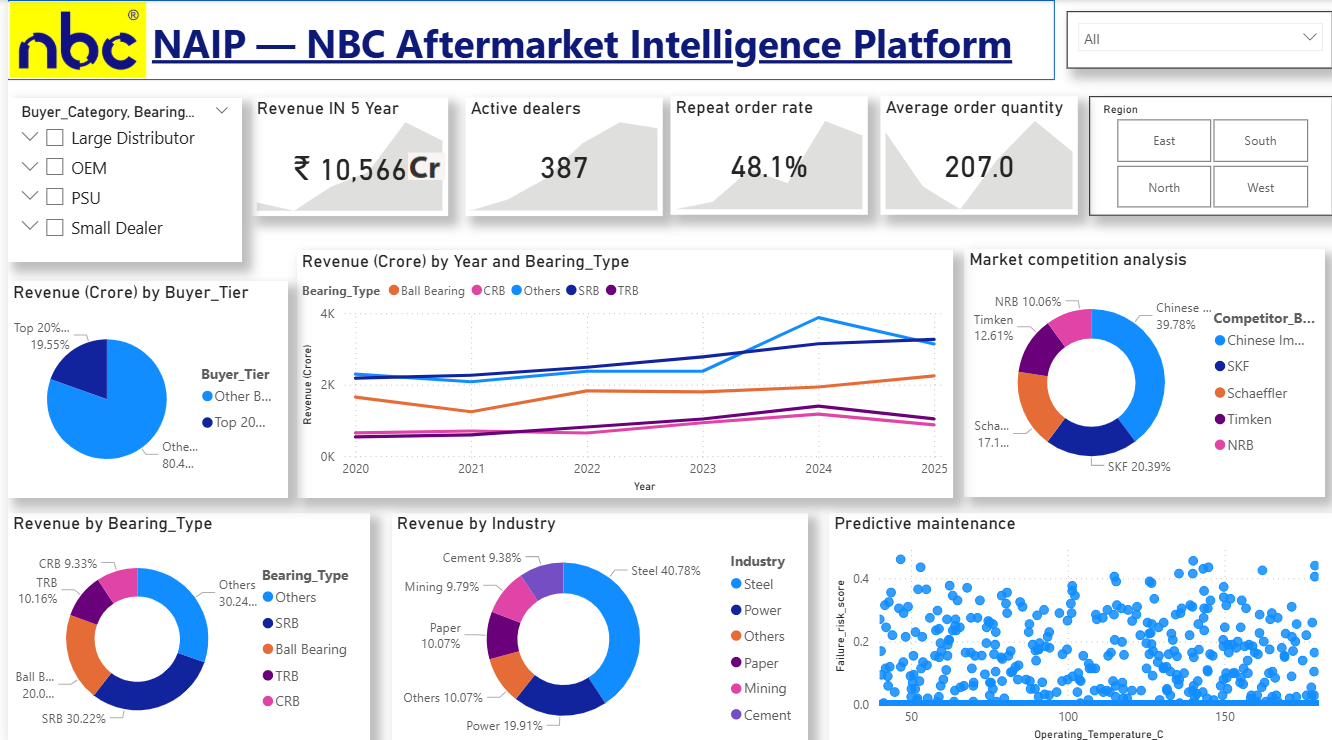

Layout of this report page (visuals, bound fields, positions):
{"tool":"powerbi","page":{"name":"Page 1","canvas":[1280,720],"ordinal":0},"visuals":[{"type":"slicer","fields":{"Values":["NBC_Aftermarket_Bearing_Dataset_2020_2025.Year"]},"box":[1022,11.1,258,55.3],"z":0},{"type":"shape","box":[0,0,1010.4,77.3],"z":1000},{"type":"textbox","box":[134.3,10.7,876.1,66.6],"z":2000},{"type":"image","box":[0,0,134.3,77.3],"z":3000},{"type":"kpi","title":"Revenue IN 5 Year","fields":{"TrendLine":["NBC_Aftermarket_Bearing_Dataset_2020_2025.Year"],"Indicator":["NBC_Aftermarket_Bearing_Dataset_2020_2025.Revenue (Crore)"]},"box":[235.3,94.1,189.4,114.6],"z":4000},{"type":"kpi","title":"Active dealers","fields":{"TrendLine":["NBC_Aftermarket_Bearing_Dataset_2020_2025.Year"],"Indicator":["NBC_Aftermarket_Bearing_Dataset_2020_2025.Active Dealers"]},"box":[441,94.6,190.4,114.2],"z":5000},{"type":"kpi","title":"Repeat order rate","fields":{"TrendLine":["NBC_Aftermarket_Bearing_Dataset_2020_2025.Year"],"Indicator":["NBC_Aftermarket_Bearing_Dataset_2020_2025.Repeat Order Rate %"]},"box":[640,93.4,190.4,114.2],"z":6000},{"type":"kpi","title":"Average order quantity","fields":{"TrendLine":["NBC_Aftermarket_Bearing_Dataset_2020_2025.Year"],"Indicator":["Avg(NBC_Aftermarket_Bearing_Dataset_2020_2025.Order_Quantity)"]},"box":[842.7,93.4,190.4,114.2],"z":7000},{"type":"slicer","fields":{"Values":["NBC_Aftermarket_Bearing_Dataset_2020_2025.Buyer_Category","NBC_Aftermarket_Bearing_Dataset_2020_2025.Bearing_Type"]},"box":[0,94.1,225.6,159.3],"z":8000},{"type":"slicer","fields":{"Values":["NBC_Aftermarket_Bearing_Dataset_2020_2025.Region"]},"box":[1044.1,93.4,235.9,115.5],"z":9000},{"type":"donutChart","title":"Revenue by Bearing_Type","fields":{"Y":["Sum(NBC_Aftermarket_Bearing_Dataset_2020_2025.Revenue)"],"Category":["NBC_Aftermarket_Bearing_Dataset_2020_2025.Bearing_Type"]},"box":[0,494.6,349.9,225.6],"z":10000},{"type":"lineChart","fields":{"Category":["NBC_Aftermarket_Bearing_Dataset_2020_2025.Year"],"Y":["NBC_Aftermarket_Bearing_Dataset_2020_2025.Revenue (Crore)"],"Series":["NBC_Aftermarket_Bearing_Dataset_2020_2025.Bearing_Type"]},"box":[278.7,241.3,633.4,238.9],"z":11000},{"type":"donutChart","title":"Revenue by Industry","fields":{"Category":["NBC_Aftermarket_Bearing_Dataset_2020_2025.Industry"],"Y":["Sum(NBC_Aftermarket_Bearing_Dataset_2020_2025.Revenue)"]},"box":[370.4,494.6,401.7,225.6],"z":12000},{"type":"donutChart","title":"Market competition analysis","fields":{"Category":["NBC_Aftermarket_Bearing_Dataset_2020_2025.Competitor_Brand"],"Y":["Sum(NBC_Aftermarket_Bearing_Dataset_2020_2025.Competitor_Price_Index)"]},"box":[922.5,239.5,347.6,239.5],"z":13000},{"type":"scatterChart","title":"Predictive maintenance","fields":{"X":["NBC_Aftermarket_Bearing_Dataset_2020_2025.Operating_Temperature_C"],"Y":["Sum(NBC_Aftermarket_Bearing_Dataset_2020_2025.Failure_Risk_Score)"]},"box":[792.6,494.6,487.4,225.6],"z":14000},{"type":"pieChart","fields":{"Category":["NBC_Aftermarket_Bearing_Dataset_2020_2025.Buyer_Tier"],"Y":["NBC_Aftermarket_Bearing_Dataset_2020_2025.Revenue (Crore)"]},"box":[0,271.5,270.2,208.8],"z":15000},{"type":"image","box":[383.6,142.4,32.6,39.8],"z":15001}]}

Visuals, with their boxes in screenshot pixels (x1, y1, x2, y2), scaled from the page's 1280x720 canvas onto the 1332x740 screenshot:
slicer - NBC_Aftermarket_Bearing_Dataset_2020_2025.Year: locate(1064, 11, 1331, 68)
shape: locate(0, 0, 1051, 79)
textbox: locate(140, 11, 1051, 79)
image: locate(0, 0, 140, 79)
"Revenue IN 5 Year" kpi: locate(245, 97, 442, 214)
"Active dealers" kpi: locate(459, 97, 657, 215)
"Repeat order rate" kpi: locate(666, 96, 864, 213)
"Average order quantity" kpi: locate(877, 96, 1075, 213)
slicer - NBC_Aftermarket_Bearing_Dataset_2020_2025.Buyer_Category x NBC_Aftermarket_Bearing_Dataset_2020_2025.Bearing_Type: locate(0, 97, 235, 260)
slicer - NBC_Aftermarket_Bearing_Dataset_2020_2025.Region: locate(1087, 96, 1331, 215)
"Revenue by Bearing_Type" donutChart: locate(0, 508, 364, 739)
lineChart - NBC_Aftermarket_Bearing_Dataset_2020_2025.Year x NBC_Aftermarket_Bearing_Dataset_2020_2025.Revenue (Crore): locate(290, 248, 949, 494)
"Revenue by Industry" donutChart: locate(385, 508, 803, 739)
"Market competition analysis" donutChart: locate(960, 246, 1322, 492)
"Predictive maintenance" scatterChart: locate(825, 508, 1331, 739)
pieChart - NBC_Aftermarket_Bearing_Dataset_2020_2025.Buyer_Tier x NBC_Aftermarket_Bearing_Dataset_2020_2025.Revenue (Crore): locate(0, 279, 281, 494)
image: locate(399, 146, 433, 187)
